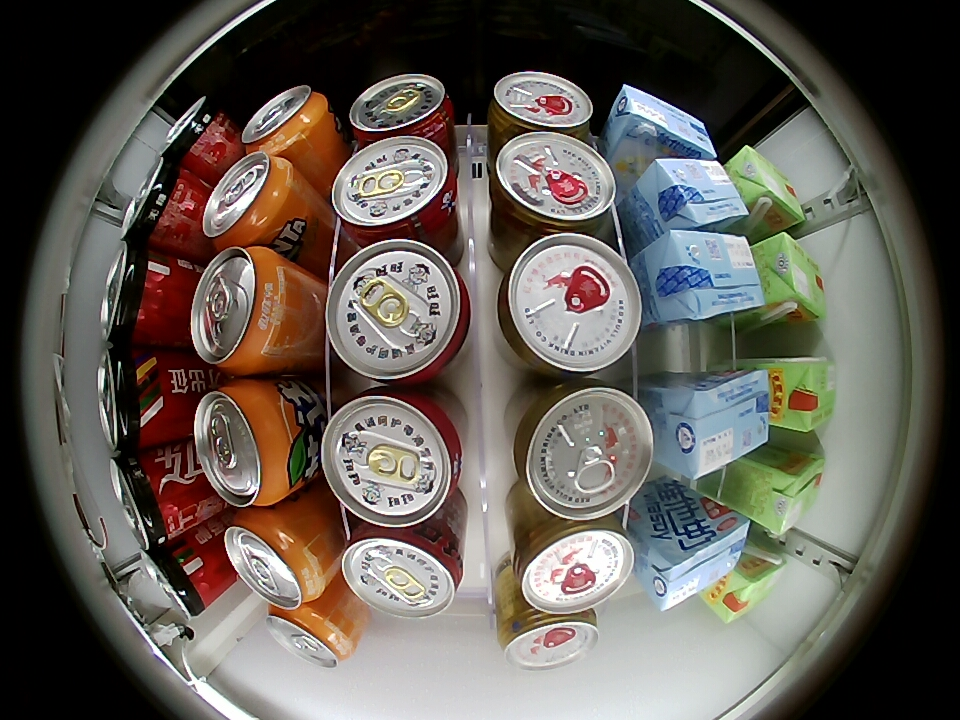fenda: (194, 380, 296, 507), (191, 246, 290, 375), (224, 508, 327, 610), (202, 151, 296, 248), (242, 85, 330, 157), (266, 603, 354, 668)
hongniu: (496, 233, 642, 377), (489, 130, 618, 235), (511, 516, 636, 614), (488, 72, 594, 140), (498, 608, 600, 671)
hongniu2: (513, 381, 653, 520)
lingdukele: (100, 242, 174, 346), (97, 345, 166, 451), (120, 157, 196, 251), (110, 451, 182, 550), (140, 541, 217, 619), (159, 96, 231, 169)
wanglaoji: (729, 144, 805, 232), (759, 231, 826, 324), (754, 451, 824, 538), (707, 547, 785, 623), (769, 358, 836, 434)
wangzainiunai: (326, 238, 472, 386), (320, 388, 465, 528), (331, 136, 460, 247), (340, 517, 464, 619), (348, 73, 455, 149)
weitanaiditang: (659, 368, 771, 481), (641, 507, 750, 614), (649, 229, 766, 323), (608, 84, 719, 162), (644, 156, 752, 231)
